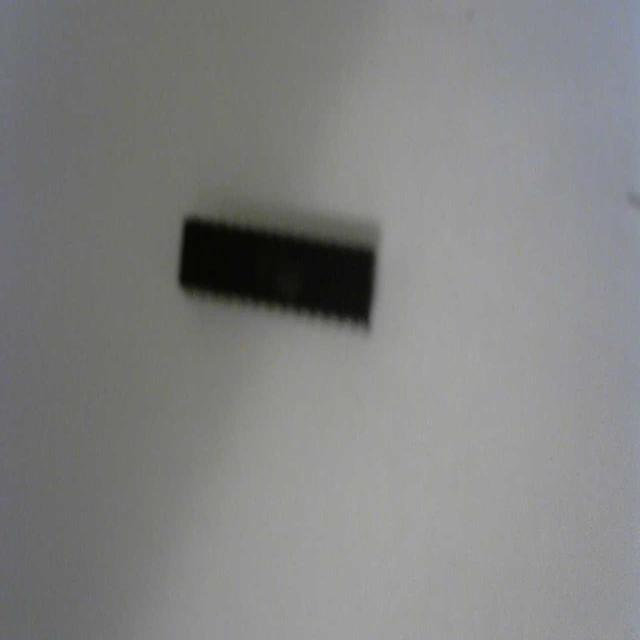atmega: (175, 207, 380, 336)
